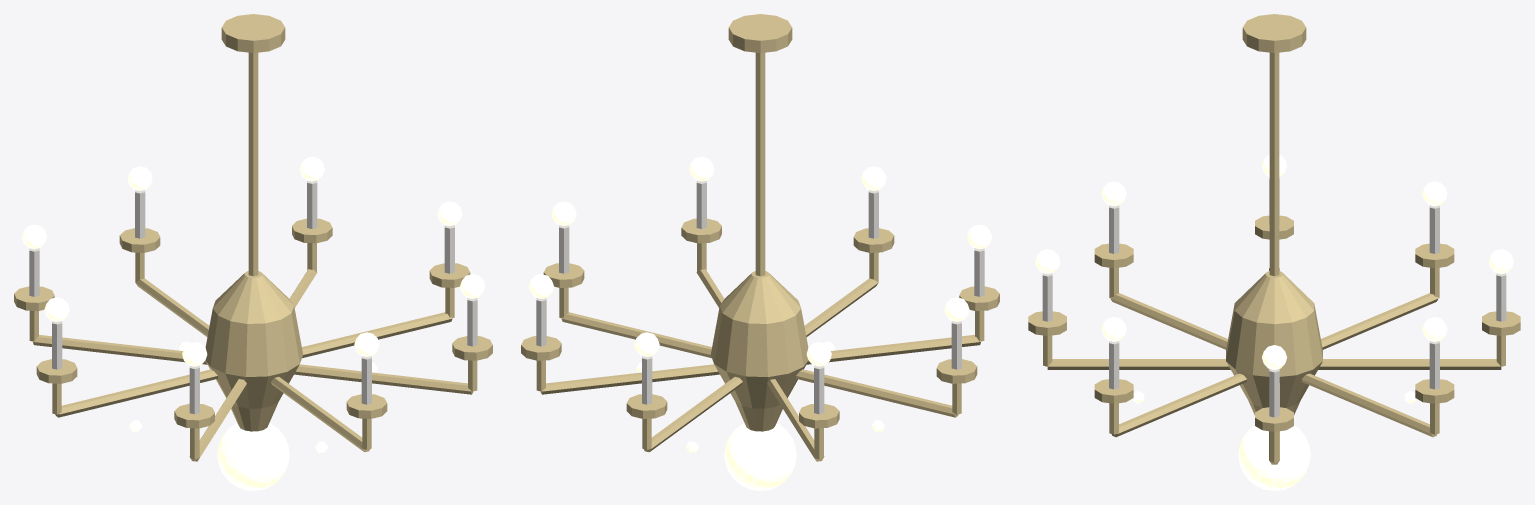
Rendered from chandelier.glb.
3 views of the same model, side by side, from view 1: azimuth 30°, elevation 25°; view 2: azimuth 150°, elevation 25°; view 3: azimuth 270°, elevation 25° (orthographic).
Visible parts, largest first — view 1: chandelier_brass, chandelier_lamp_glass, chandelier_linen; view 2: chandelier_brass, chandelier_lamp_glass, chandelier_linen; view 3: chandelier_brass, chandelier_lamp_glass, chandelier_linen.
Part boxes in pixels (<box>): chandelier_brass: <box>14,14,492,461</box>; chandelier_lamp_glass: <box>21,156,485,490</box>; chandelier_linen: <box>29,180,477,414</box>; chandelier_brass: <box>521,14,999,461</box>; chandelier_lamp_glass: <box>528,156,992,490</box>; chandelier_linen: <box>536,180,984,414</box>; chandelier_brass: <box>1028,14,1520,464</box>; chandelier_lamp_glass: <box>1035,154,1513,490</box>; chandelier_linen: <box>1042,177,1506,417</box>.
Size of the model in its own units: 1.09 by 1.12 by 1.09.
